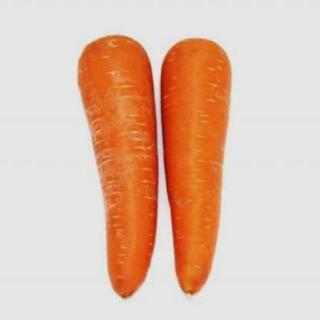carrot: (73, 34, 161, 304), (159, 36, 233, 302)
